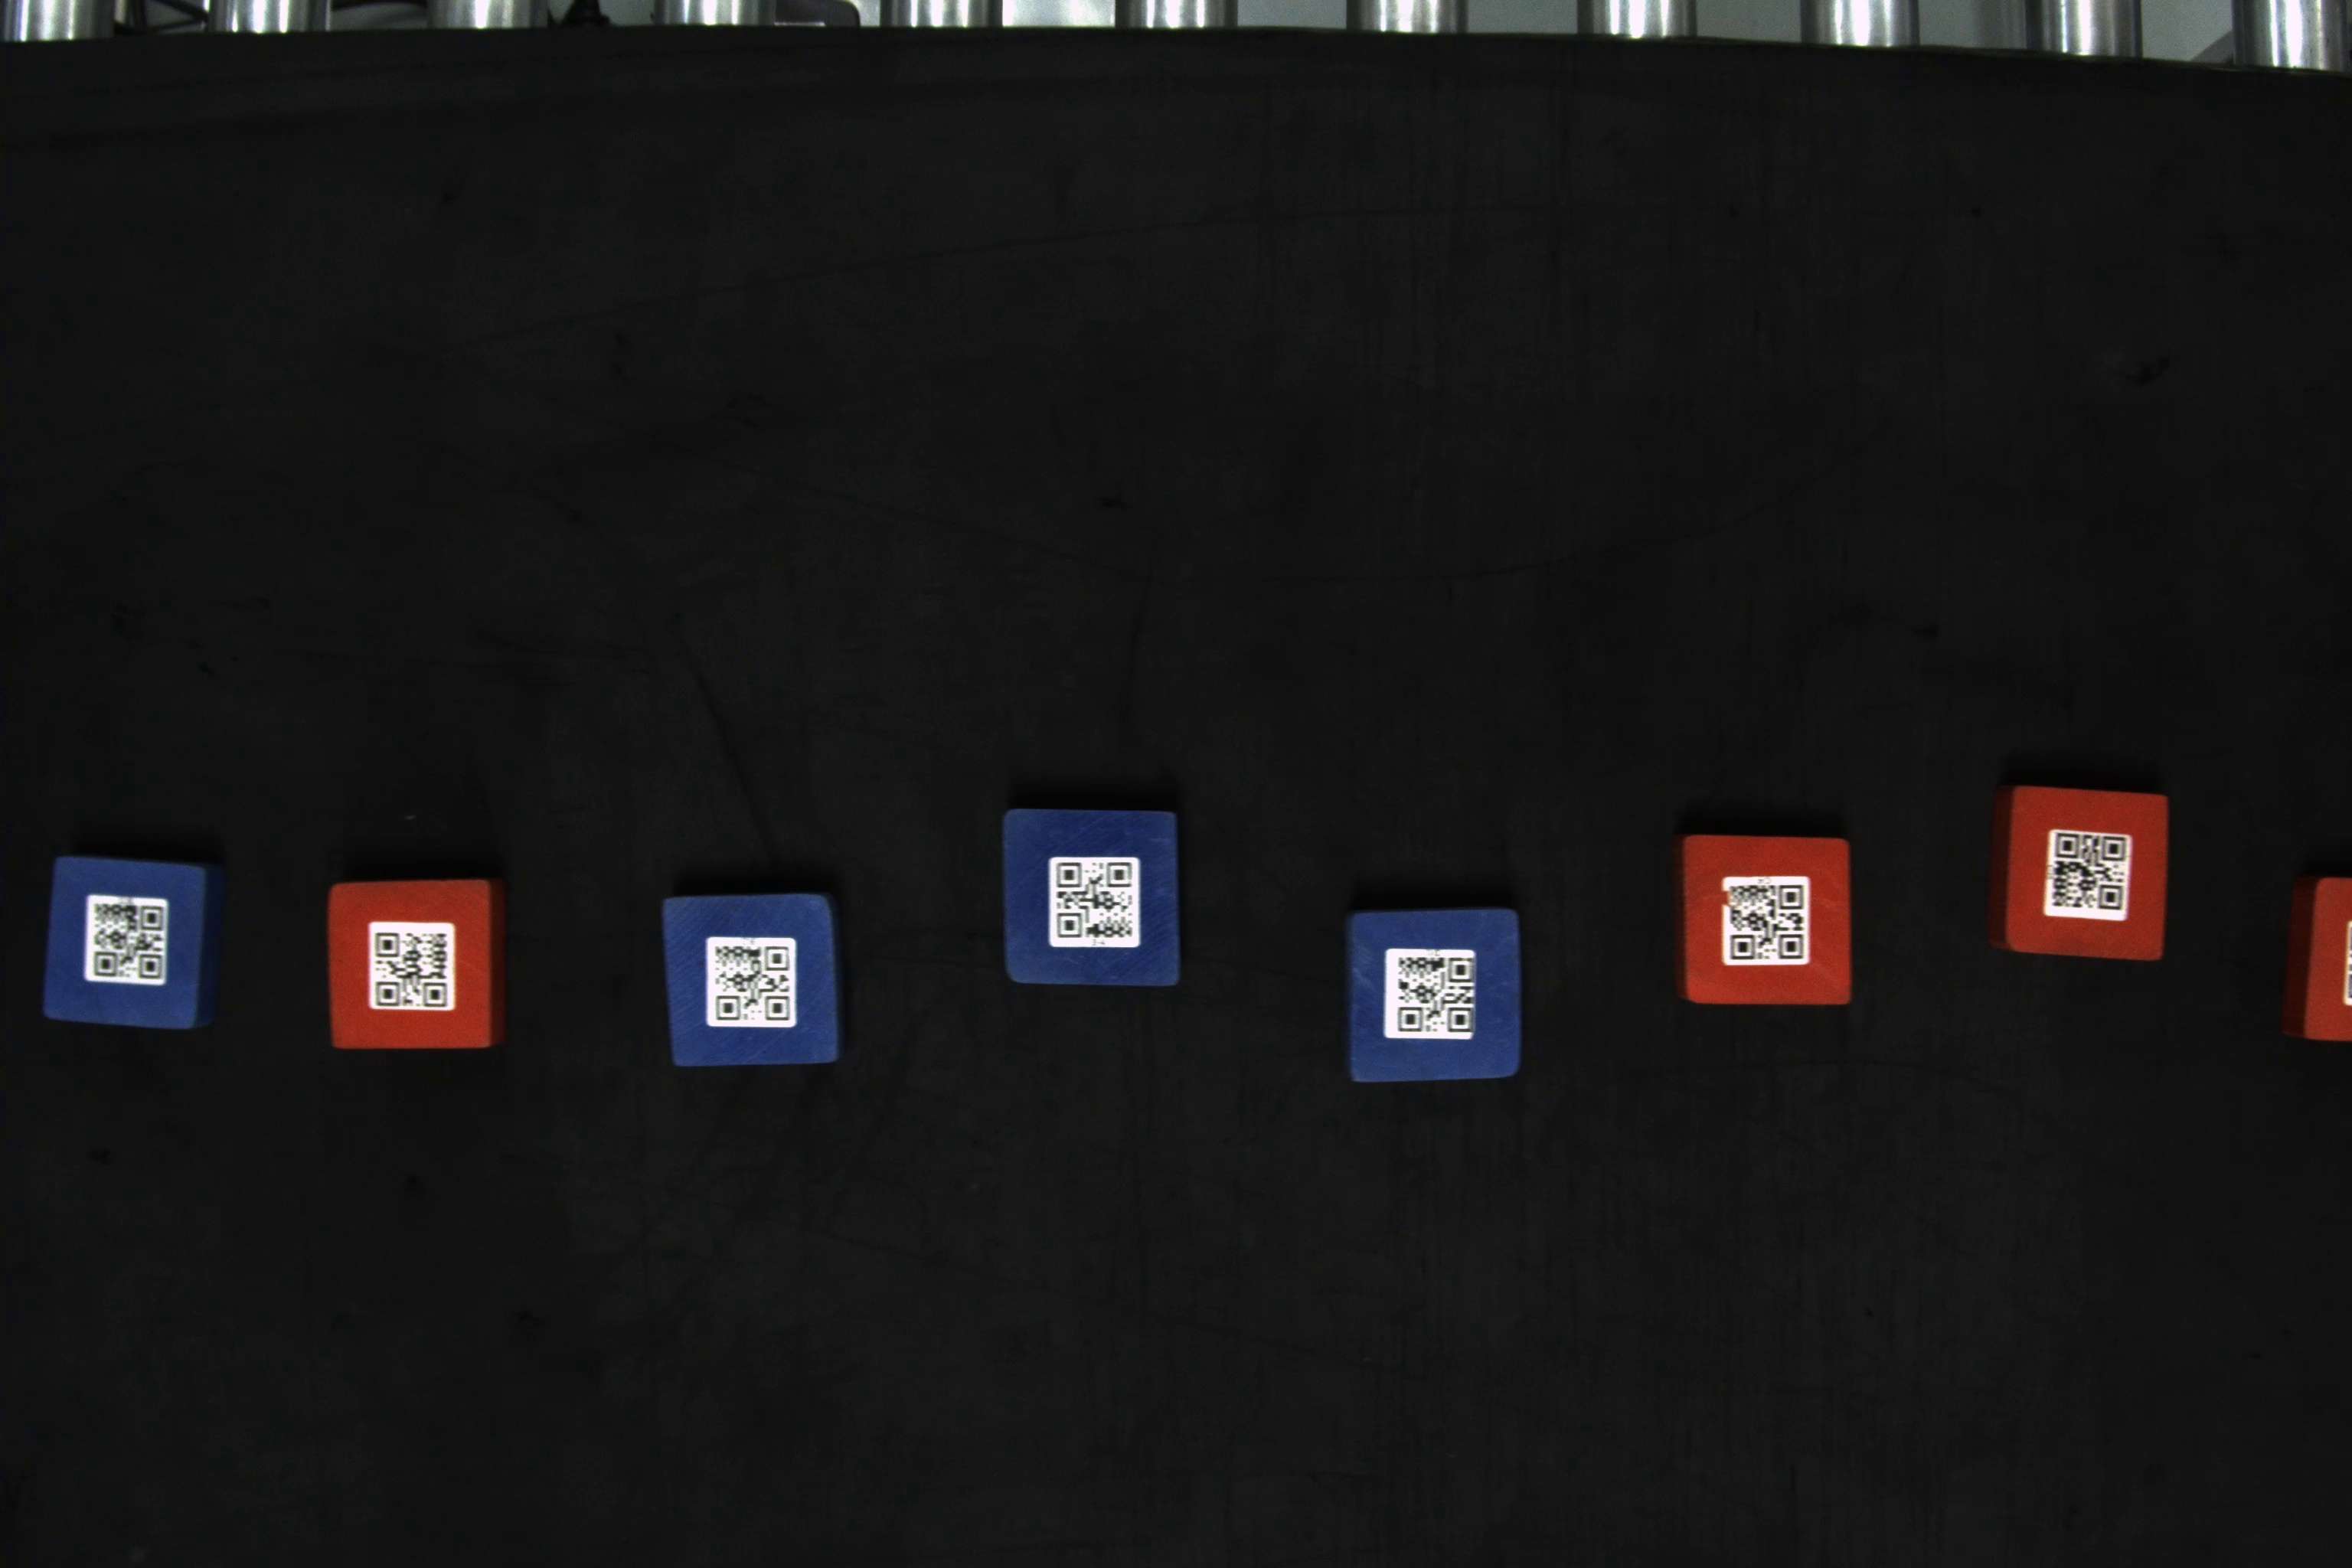wood: (996, 803, 1188, 996), (33, 852, 227, 1039), (1669, 822, 1858, 1011), (658, 891, 845, 1073), (1995, 779, 2177, 964), (1340, 906, 1526, 1087), (324, 877, 509, 1055), (2285, 870, 2348, 1043)
